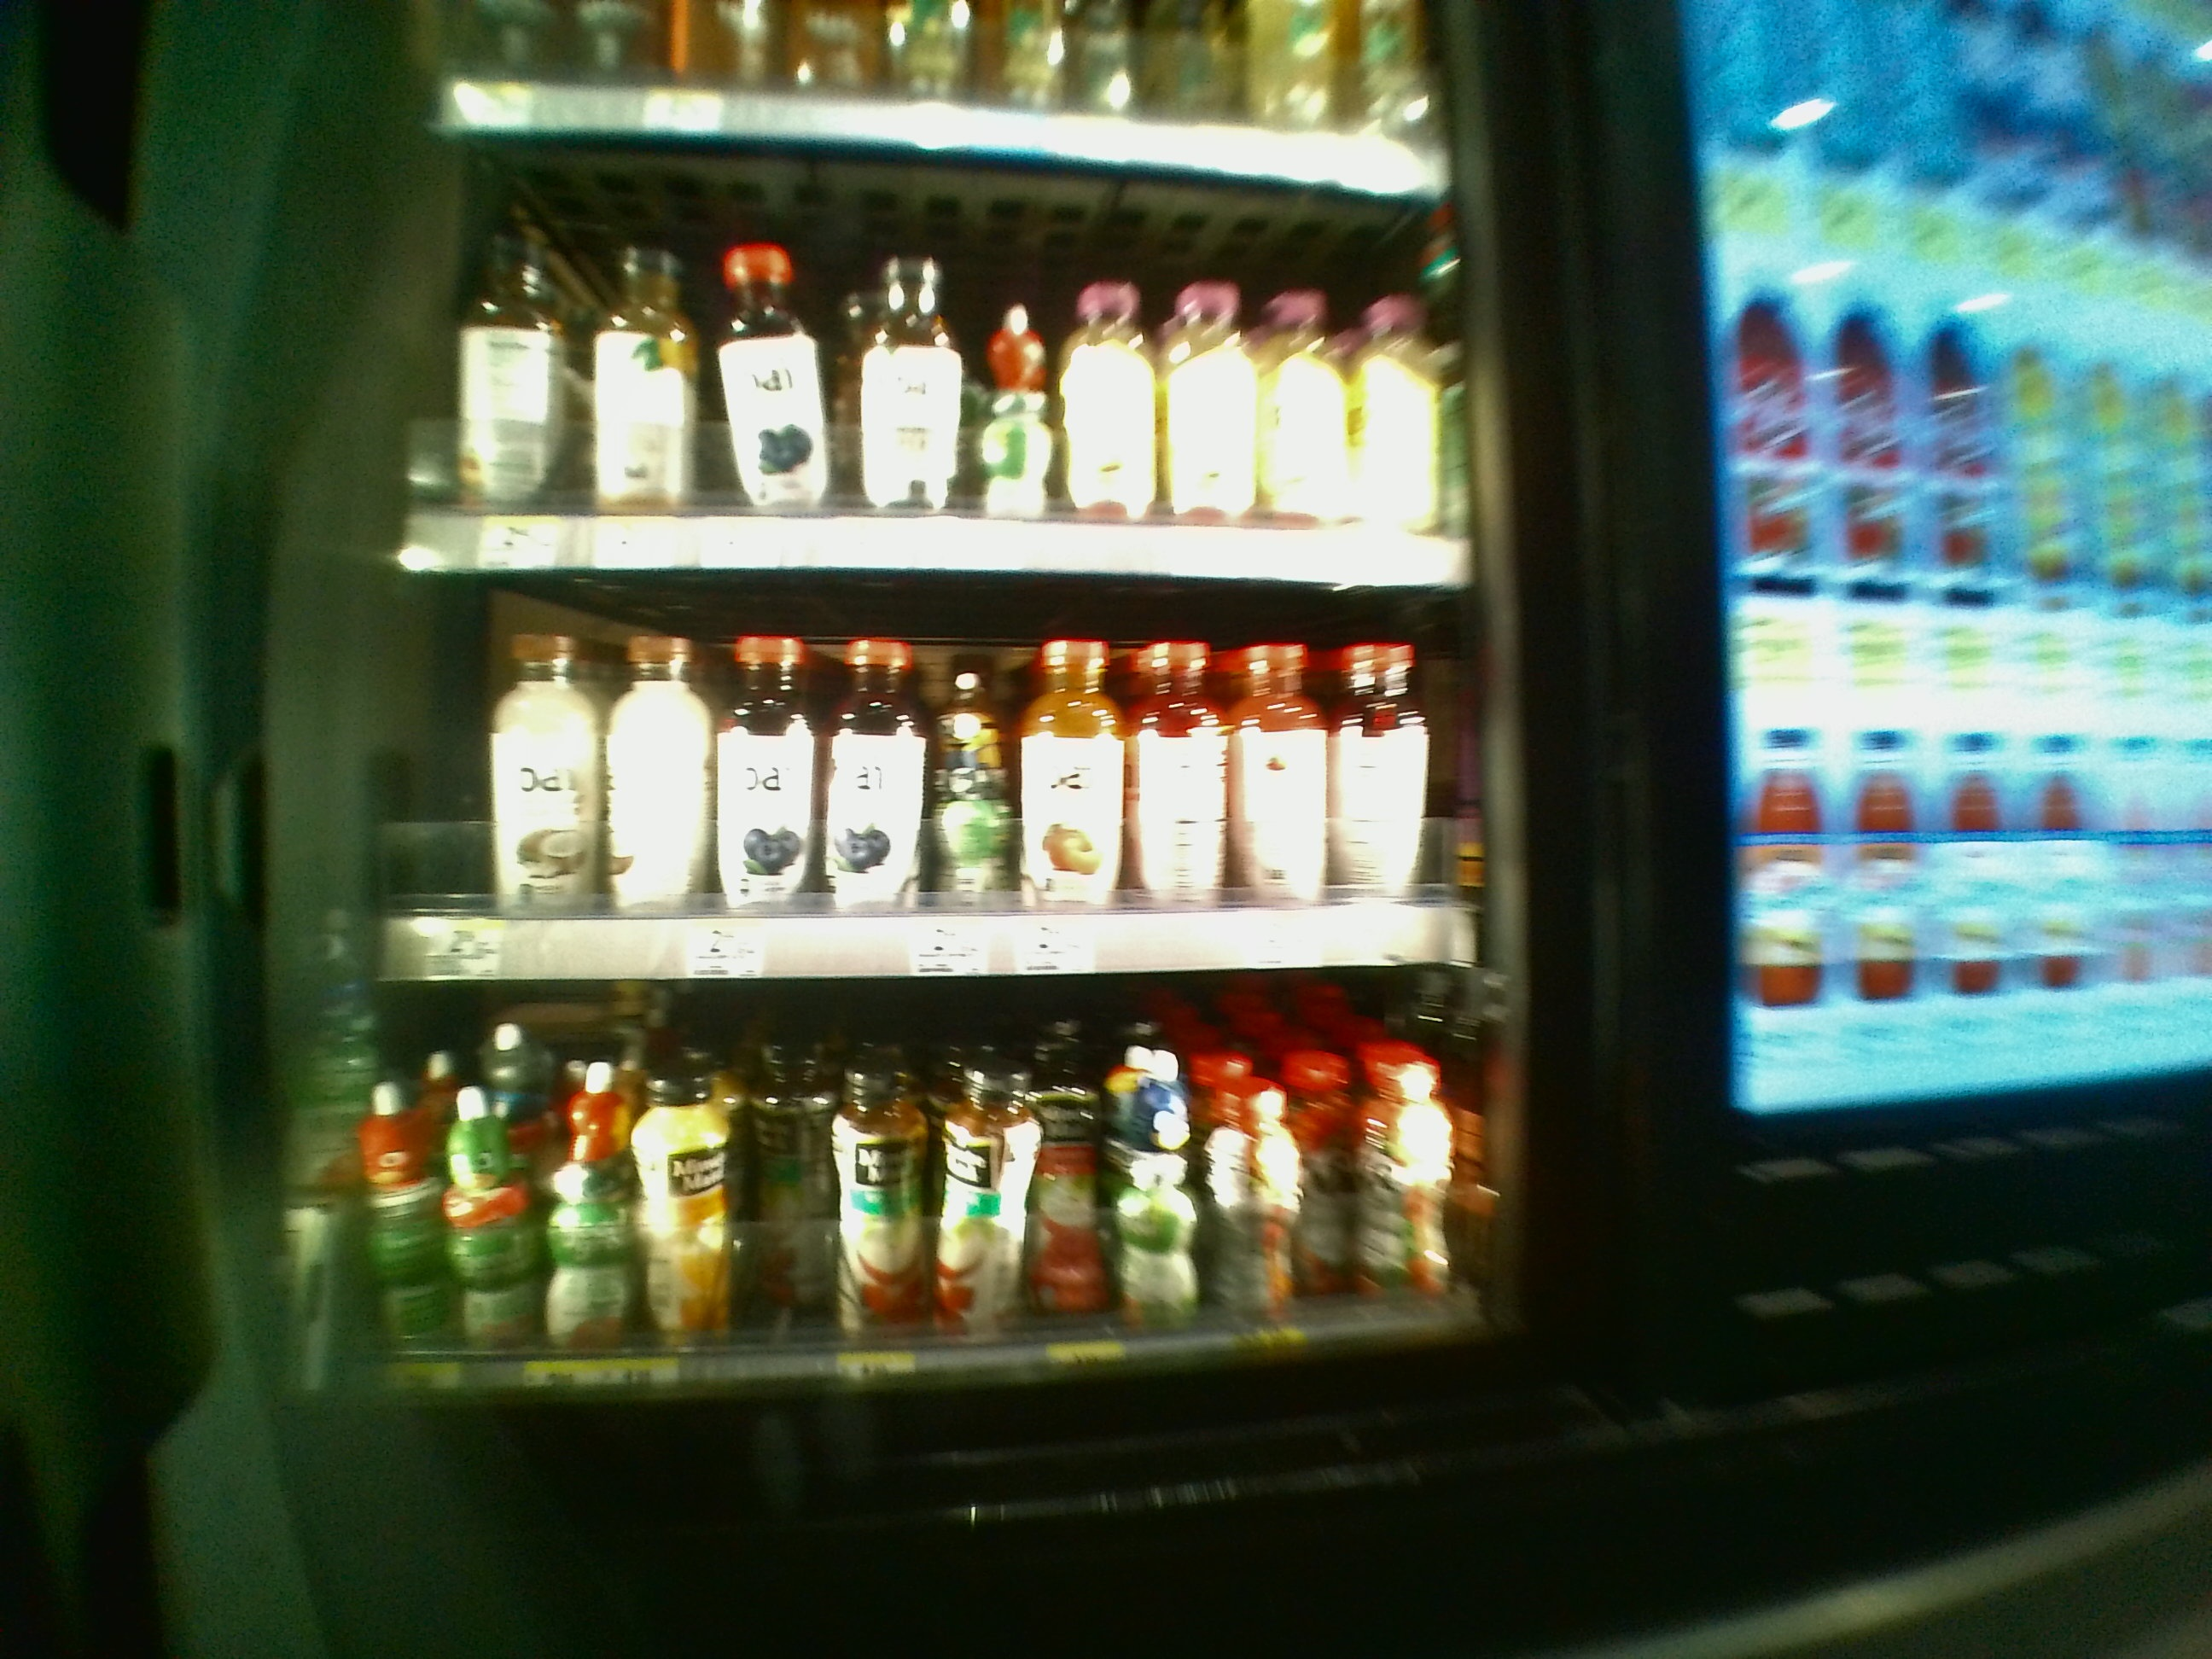shelf: (359, 997, 1496, 1399), (395, 146, 1453, 573), (376, 596, 1475, 990)
